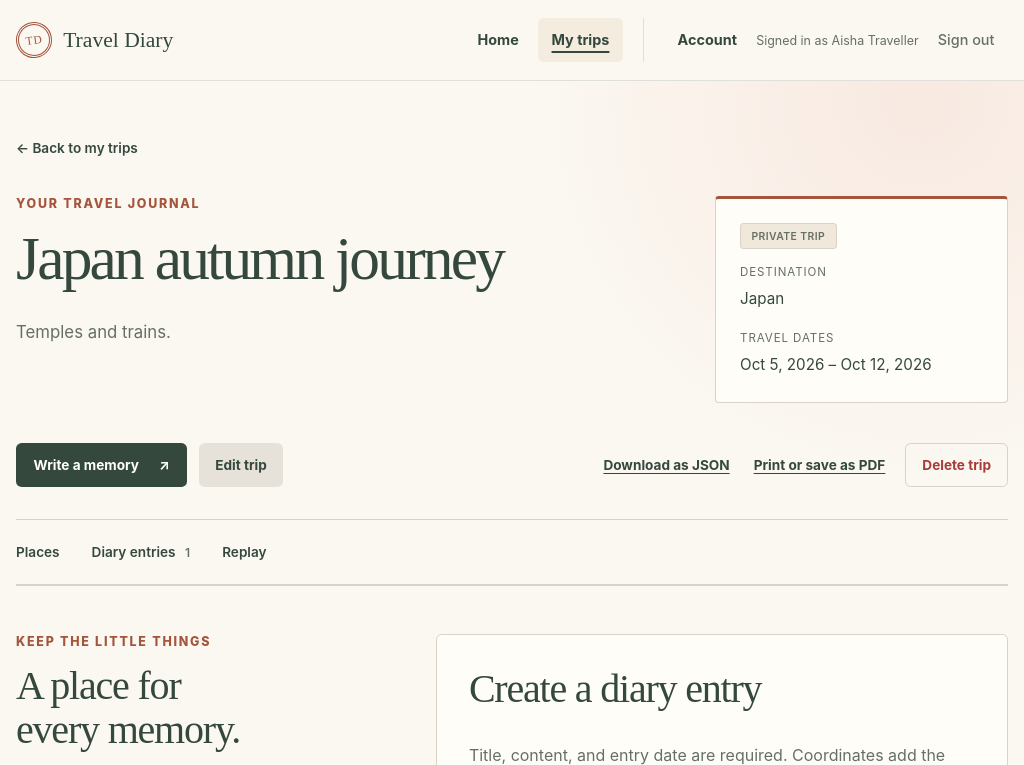
it: TripDetails owner actions › recalculates day numbers when the trip start date changes
Click the button "Edit trip". click: x=241, y=465
box: top-left (199, 443), bottom-right (283, 487)
(page scrolled)
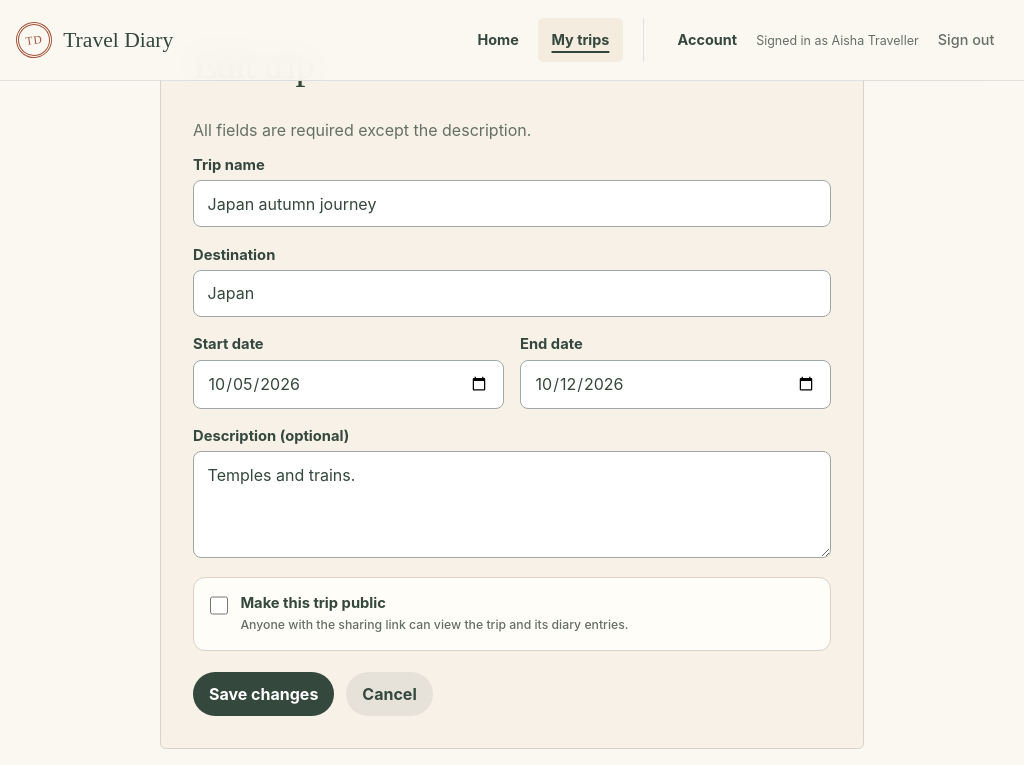
Type "2026-10-04" into the date field labelled "Start date". click: x=348, y=384
box: top-left (193, 360), bottom-right (504, 409)
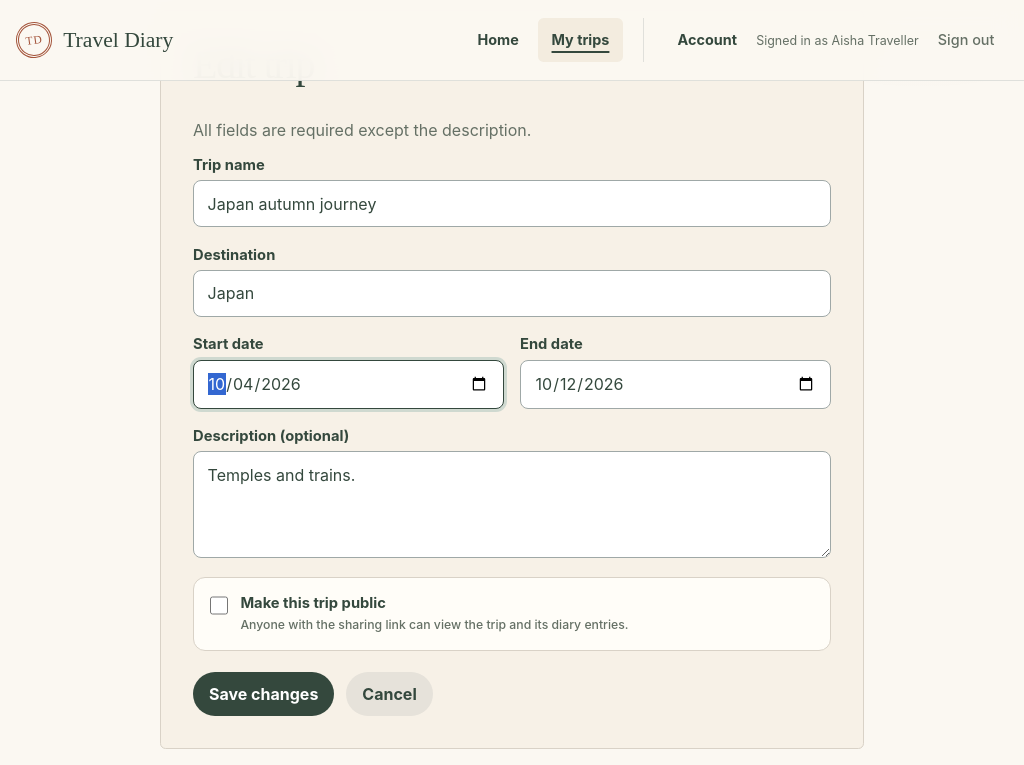
Click the button "Save changes". click: x=264, y=694
box: top-left (193, 672), bottom-right (334, 716)
(page scrolled)
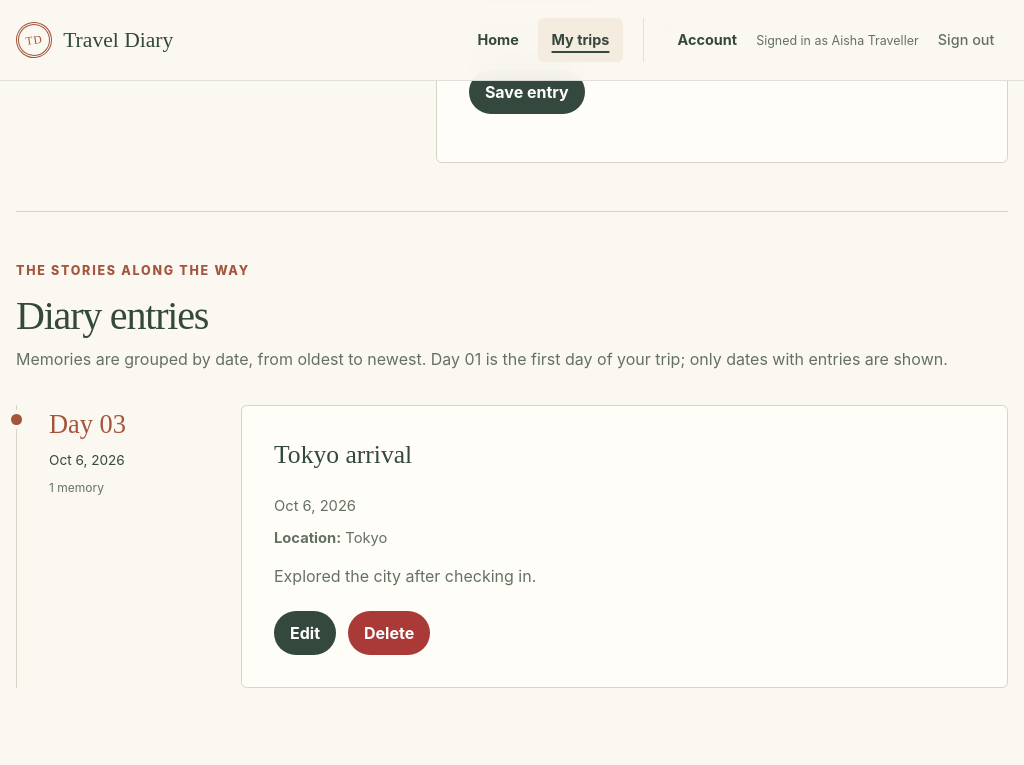
Expected: the text "Day 03" is shown, top-left (49, 409), bottom-right (126, 439)
